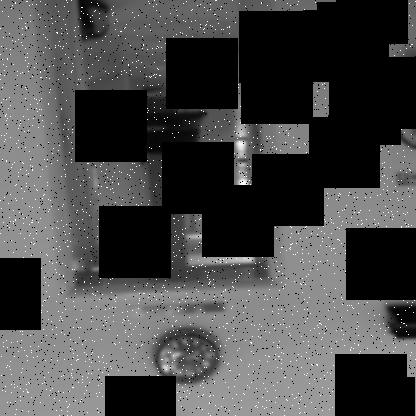Porte: (33, 0, 290, 303)
